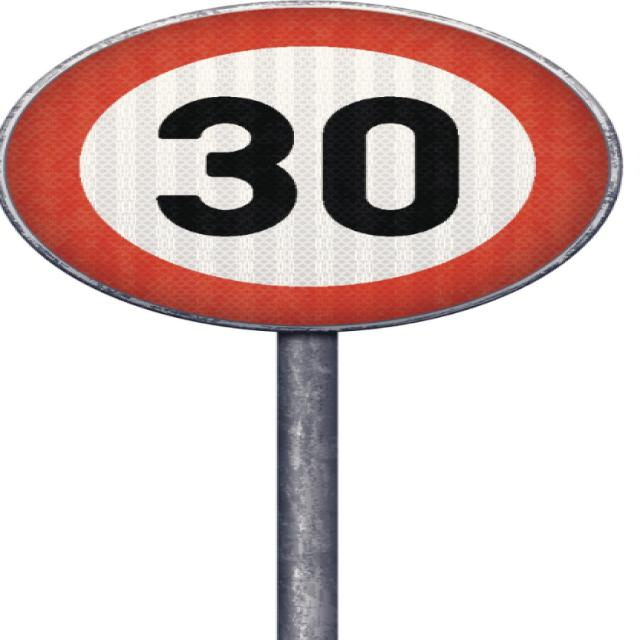Speed limit 30: (4, 2, 624, 334)
